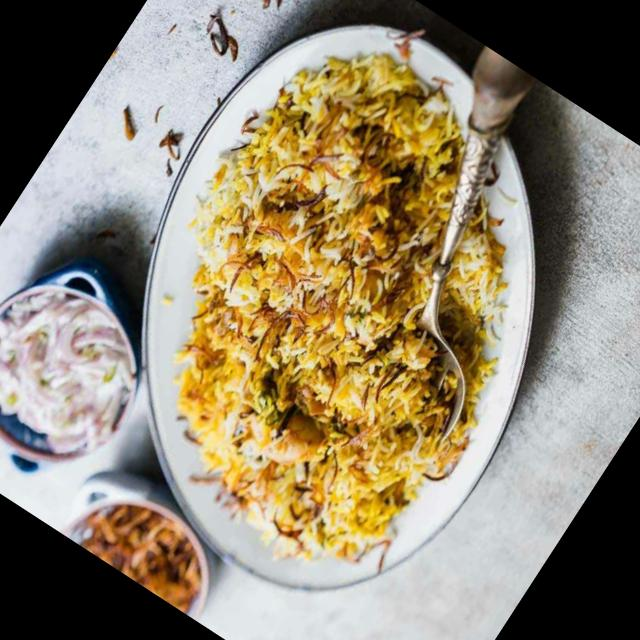Biryani: (44, 4, 625, 623)
